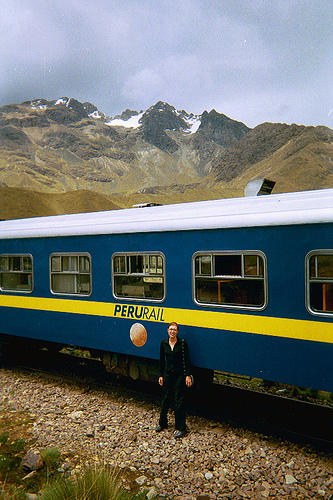without_mask: (164, 321, 182, 341)
